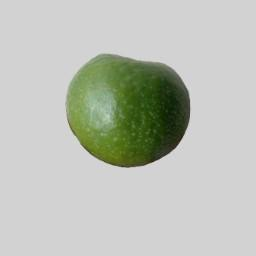Unripe: (67, 54, 193, 167)
